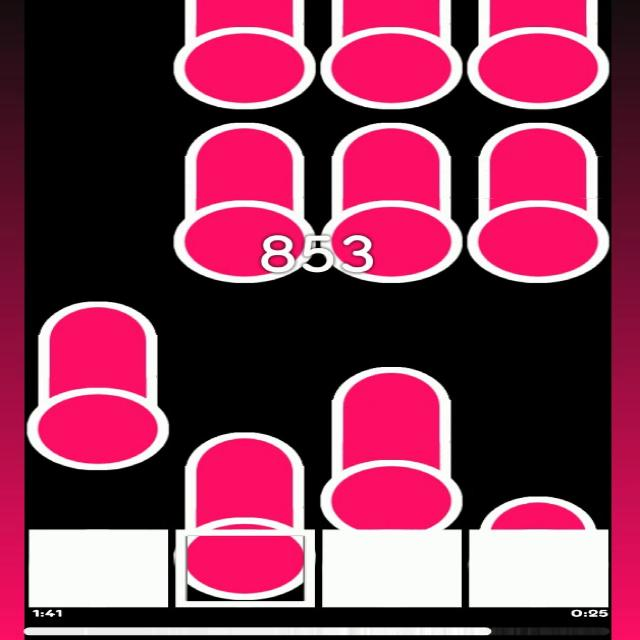end_hold: (30, 294, 162, 340), (180, 423, 308, 466), (182, 115, 307, 157), (324, 363, 452, 404), (328, 116, 454, 157), (473, 117, 596, 159)
start_hold: (28, 371, 168, 472), (322, 188, 462, 284), (467, 189, 610, 282), (174, 192, 314, 284), (468, 19, 608, 111), (179, 504, 306, 600), (176, 22, 316, 108), (322, 22, 460, 108), (322, 449, 462, 531), (479, 490, 597, 530)
